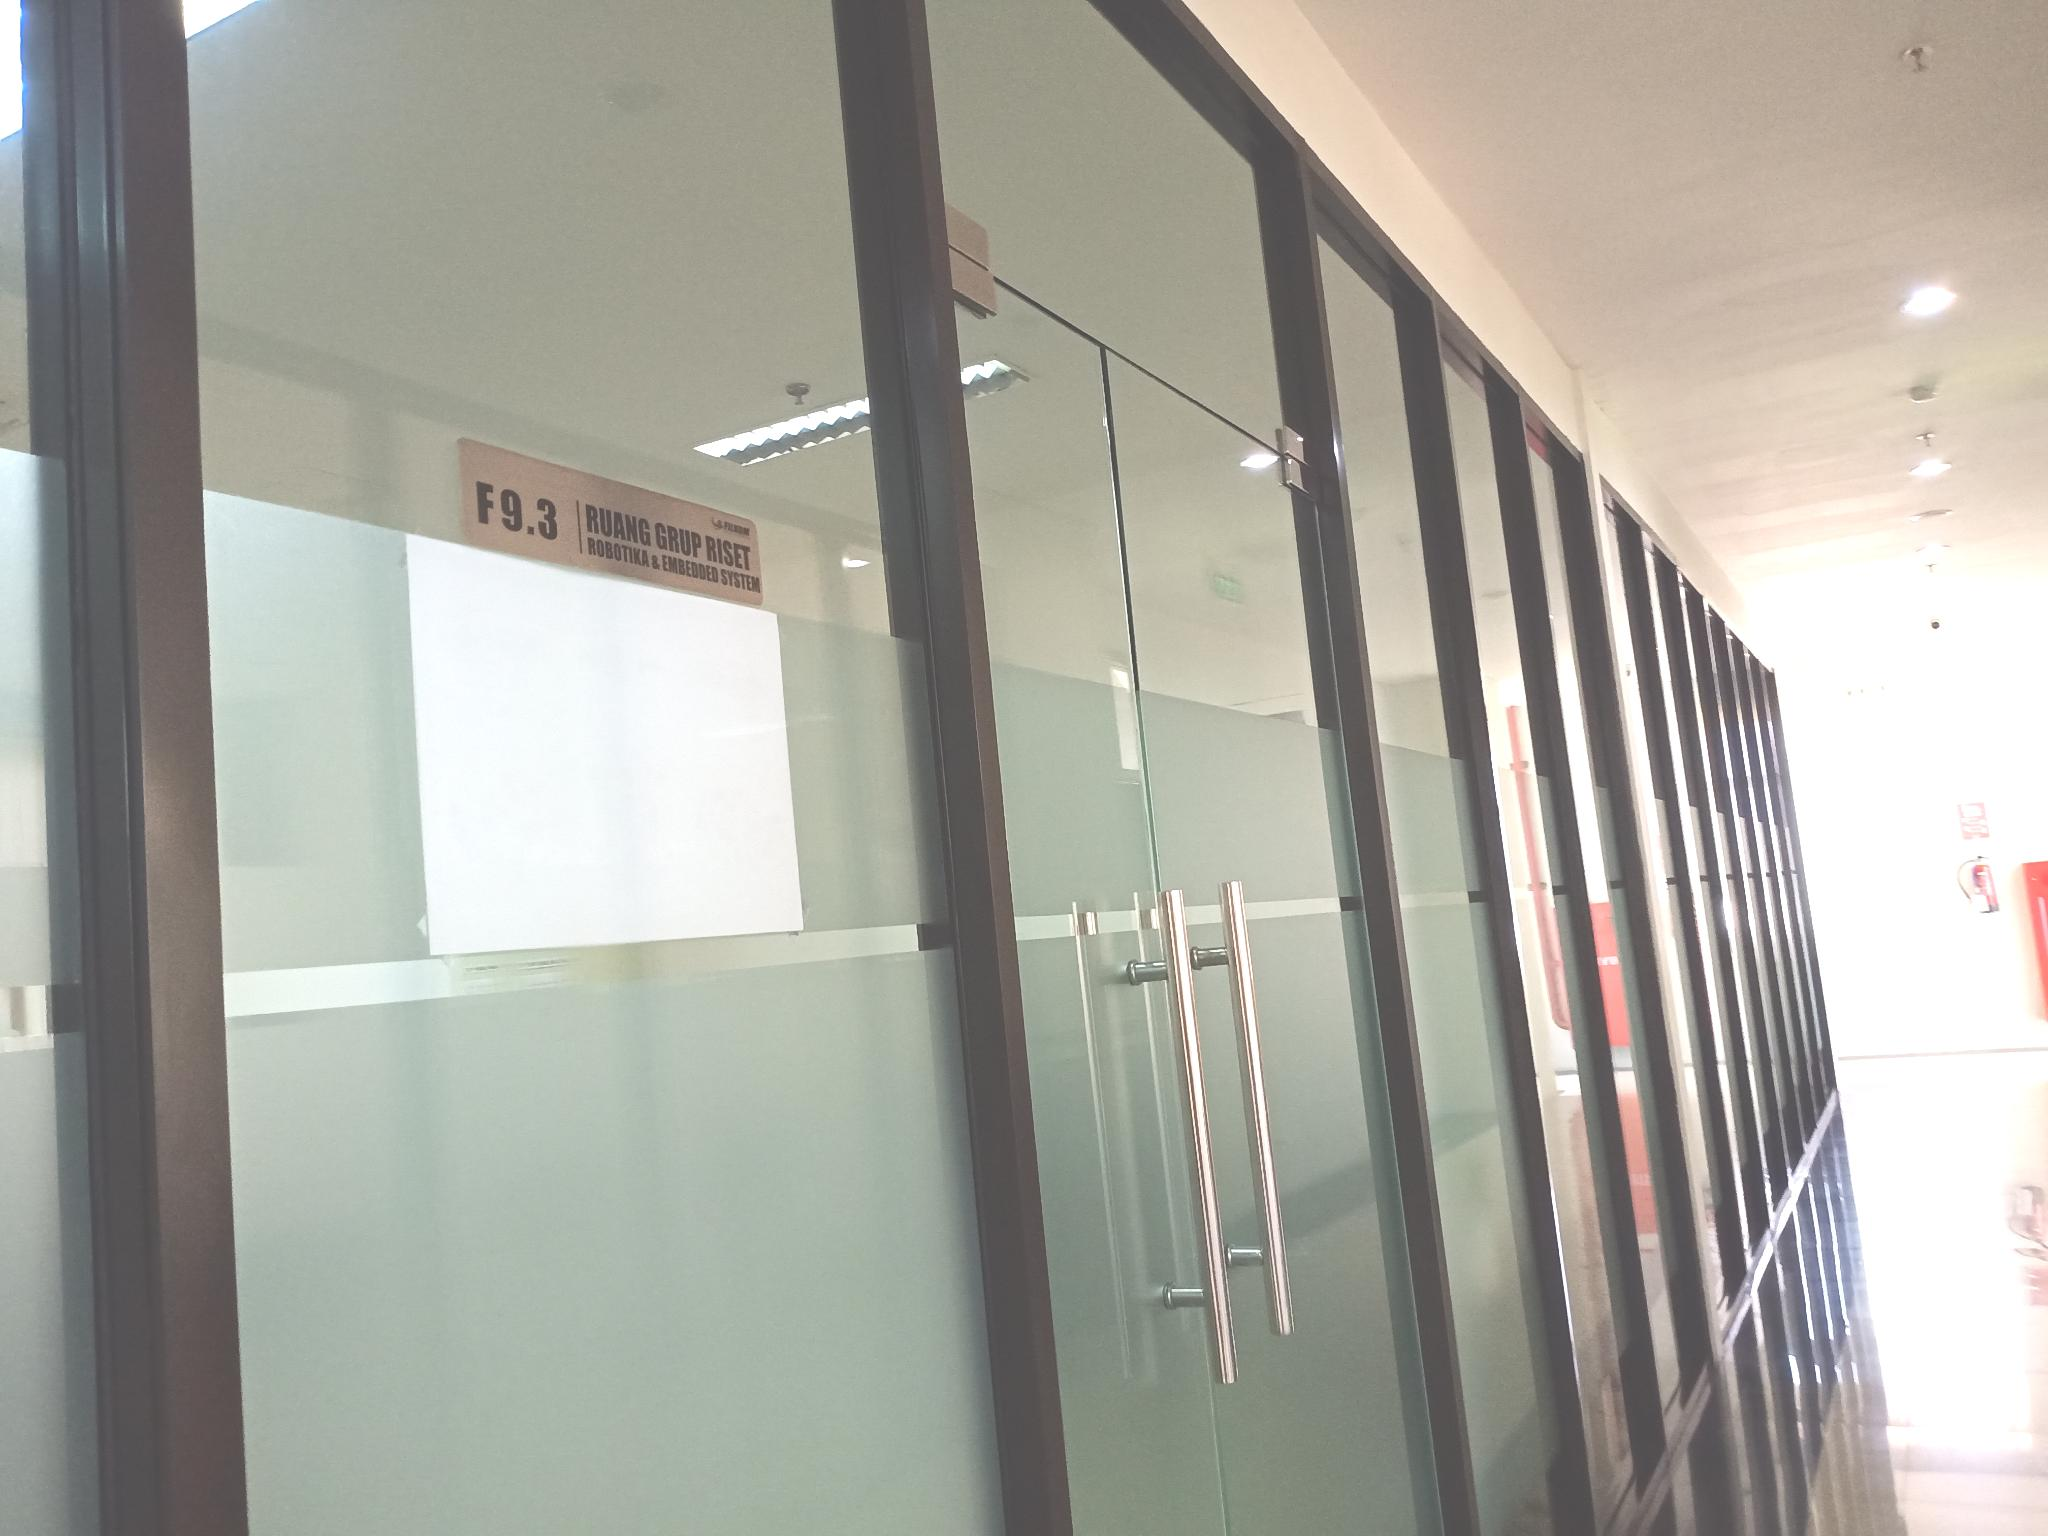plate: (458, 429, 766, 610)
